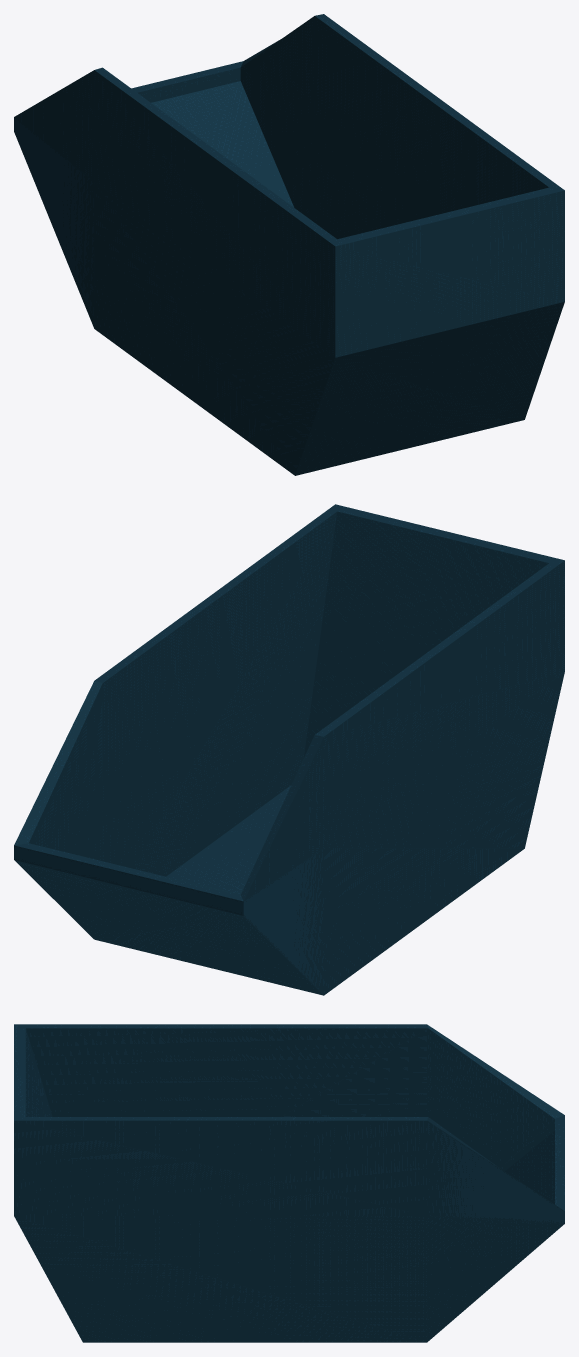
Rendered from container-rubble-blue.glb.
3 views of the same model, one above another, from view 1: azimuth 30°, elevation 25°; view 2: azimuth 150°, elevation 25°; view 3: azimuth 270°, elevation 25° (orthographic). The views are drawn at different scales.
Visible parts, largest first — view 1: Container Blue; view 2: Container Blue; view 3: Container Blue.
Part boxes in pixels (box(x1,y1,x2,y2)): Container Blue: box(14, 14, 564, 475); Container Blue: box(14, 504, 564, 995); Container Blue: box(14, 1024, 564, 1342).
Bounding box in the file's own units: 1.65 × 1.78 × 4.
Materials: 1 (1 with a texture image).
